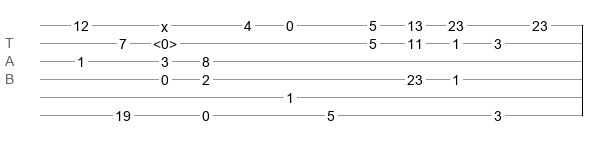0: (161, 72, 169, 82), (202, 108, 210, 118), (286, 18, 294, 28)
1: (77, 54, 85, 64), (286, 90, 294, 100), (452, 72, 460, 82), (452, 36, 460, 46)
11: (407, 36, 423, 46)
12: (73, 18, 89, 28)
13: (407, 18, 423, 28)
19: (115, 108, 131, 118)
2: (202, 72, 210, 82)
23: (407, 72, 423, 82), (448, 18, 464, 28), (532, 18, 548, 28)
3: (161, 54, 169, 64), (494, 36, 502, 46), (494, 108, 502, 118)
4: (244, 18, 252, 28)
5: (327, 108, 335, 118), (369, 36, 377, 46), (369, 18, 377, 28)
7: (119, 36, 127, 46)
8: (202, 54, 210, 64)
harmonic: (153, 36, 177, 46)
x: (161, 19, 168, 27)
